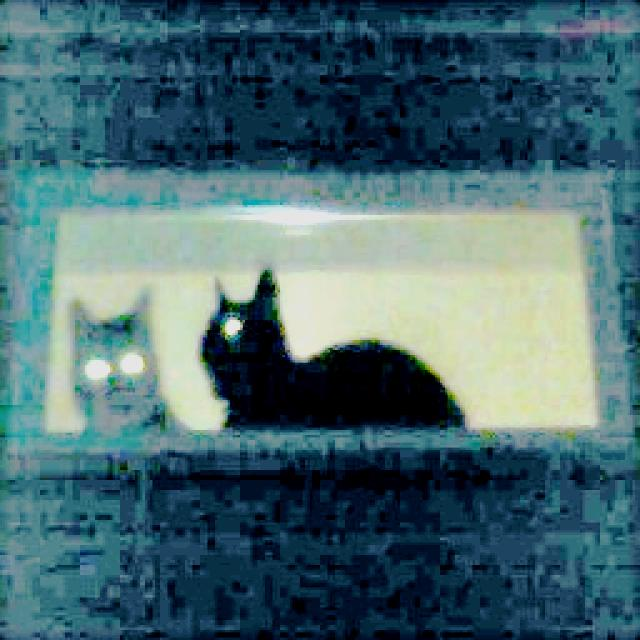cat: (194, 265, 493, 452), (56, 284, 192, 442)
